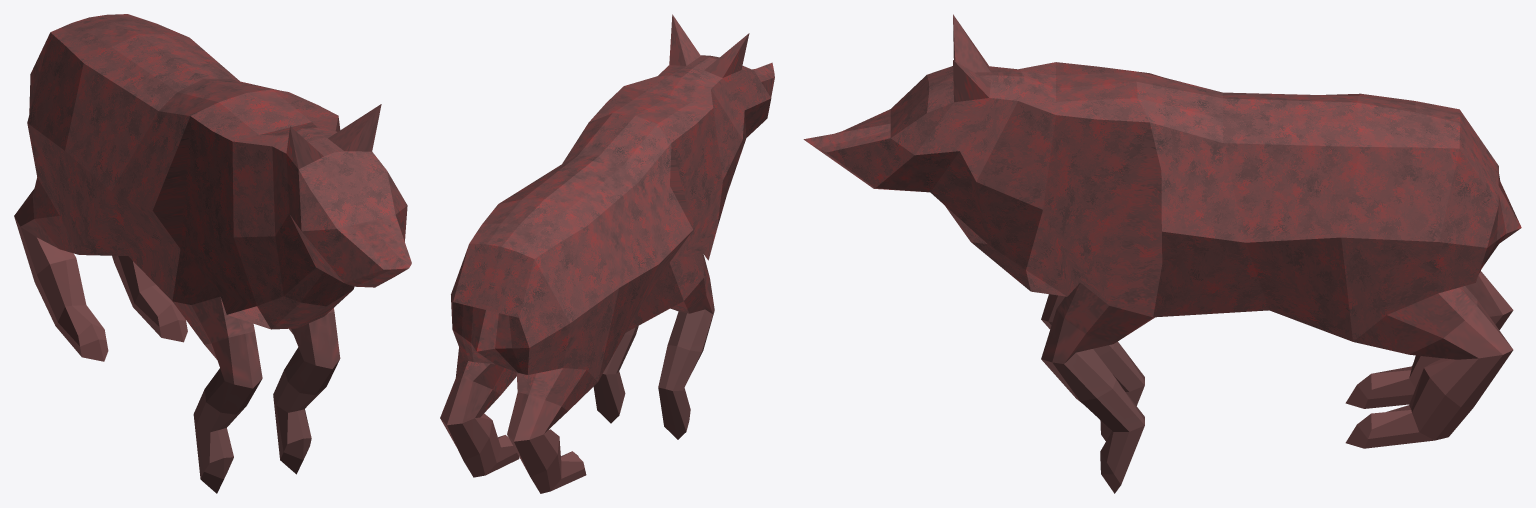
File: piesblend_000029.obj
The picture shows the model from 3 angles, left to right: view 1: azimuth 30°, elevation 25°; view 2: azimuth 150°, elevation 25°; view 3: azimuth 270°, elevation 25°; orthographic projection. The views are drawn at different scales.
Visible parts, largest first — view 1: Cube; view 2: Cube; view 3: Cube.
Boxes of the visible parts, box(x1,y1,x2,y2) form: Cube: box(14, 14, 411, 493); Cube: box(440, 14, 774, 493); Cube: box(803, 14, 1521, 493).
Bounding box in the file's own units: 2.56 × 6.44 × 9.58.
Materials: 1 (1 with a texture image).
